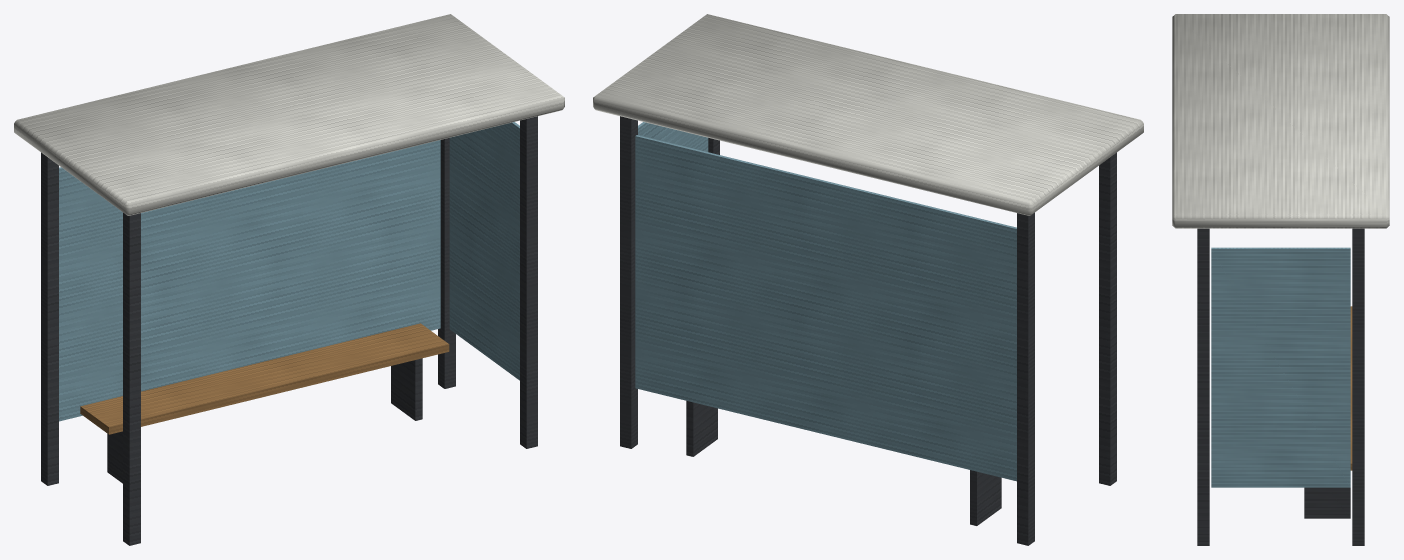
Rendered from ponto_onibus.glb.
3 views of the same model, side by side, from view 1: azimuth 30°, elevation 25°; view 2: azimuth 150°, elevation 25°; view 3: azimuth 270°, elevation 25° (orthographic). The views are drawn at different scales.
Parts seen in each view (by area): view 1: Inteiro; view 2: Inteiro; view 3: Inteiro.
Part boxes in pixels (x1,y1,x2,y2): Inteiro: [14, 14, 564, 545]; Inteiro: [593, 14, 1143, 545]; Inteiro: [1172, 14, 1389, 545].
Size of the model in its own units: 3.1 by 2.4 by 1.4.
Materials: 1 (1 with a texture image).
